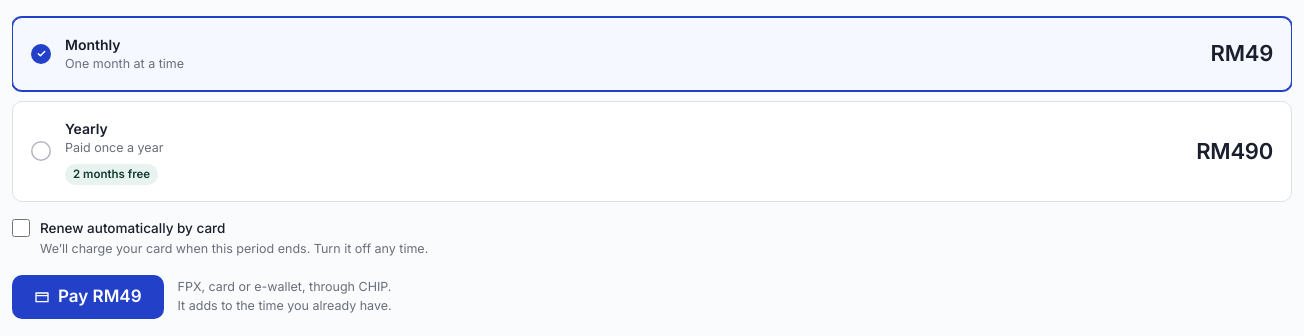
Test: PlanPay › starts on Monthly, and Pay says the chosen price
Expected: the button "Pay RM49" is shown, [12, 275, 164, 319]
What coordinates should you click on to do the following:
click the radio button labelled "Yearly RM490 Paid once a year 2 months free"
I would click on:
 (86, 128)
Its box is [12, 101, 1292, 202].
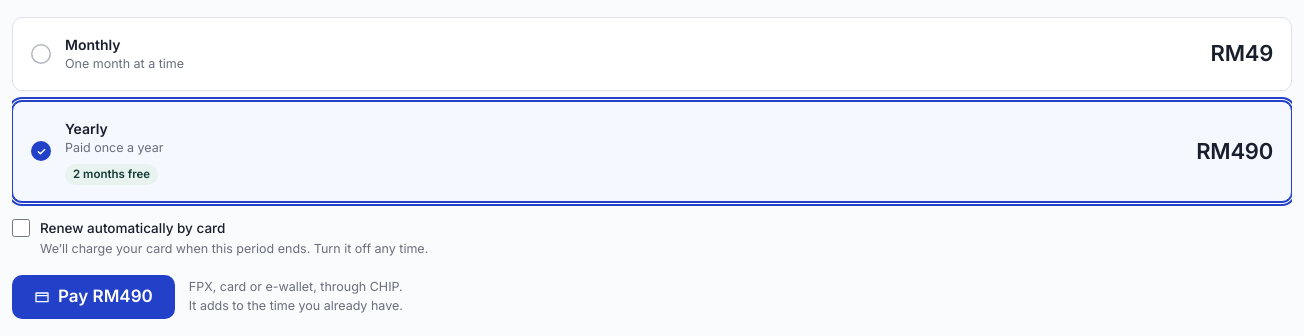
Now the button "Pay RM490" is shown, box [12, 275, 175, 319]
